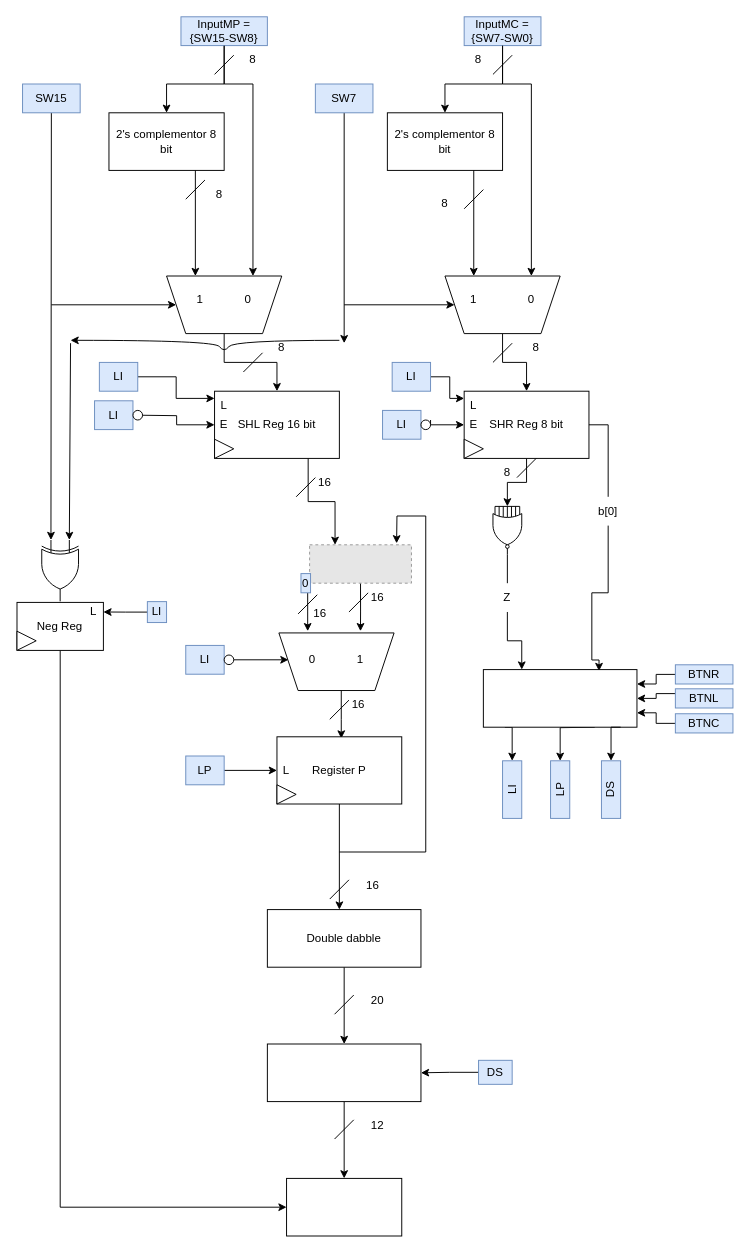
Some shapes in this 750 by 1253 pixel diagram are drawn without their labels. Grey dashed boxes stand in for pictures. Each missing label, with the centre of its shape:
"7 Segment Function" belongs at point 344,1206.
"Control Unit" belongs at point 559,698.
"Display" belongs at point 343,1072.
